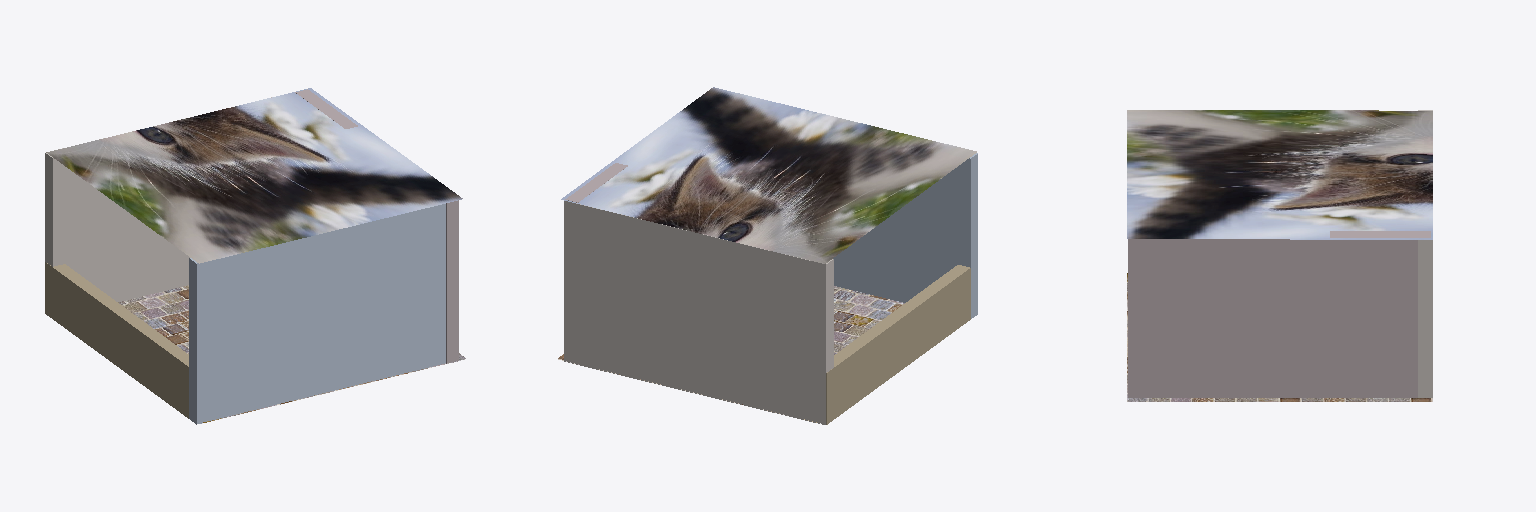
The picture shows the model from 3 angles: view 1: azimuth 30°, elevation 25°; view 2: azimuth 150°, elevation 25°; view 3: azimuth 270°, elevation 25°; orthographic projection.
Parts seen in each view (by area): view 1: Cube.002, Plane.001, Cube.003, Cube, Cube.001, Plane; view 2: Cube.003, Plane.001, Cube.002, Cube, Plane, Cube.001; view 3: Cube.001, Plane.001, Cube.003, Plane.
Part boxes in pixels (x1,y1,x2,y2): Cube.002: (189, 204, 445, 424); Plane.001: (46, 88, 462, 263); Cube.003: (45, 97, 271, 315); Cube: (45, 262, 188, 418); Cube.001: (295, 89, 458, 363); Plane: (118, 285, 465, 423); Cube.003: (564, 201, 833, 424); Plane.001: (561, 87, 976, 263); Cube.002: (833, 153, 977, 318); Cube: (826, 265, 970, 424); Plane: (558, 286, 904, 423); Cube.001: (565, 163, 627, 202); Cube.001: (1128, 231, 1430, 397); Plane.001: (1127, 110, 1432, 239); Cube.003: (1418, 110, 1432, 397); Plane: (1127, 273, 1432, 401).
Bounding box in the file's own units: 16.45 × 9.43 × 16.18.
Materials: 6 (6 with a texture image).